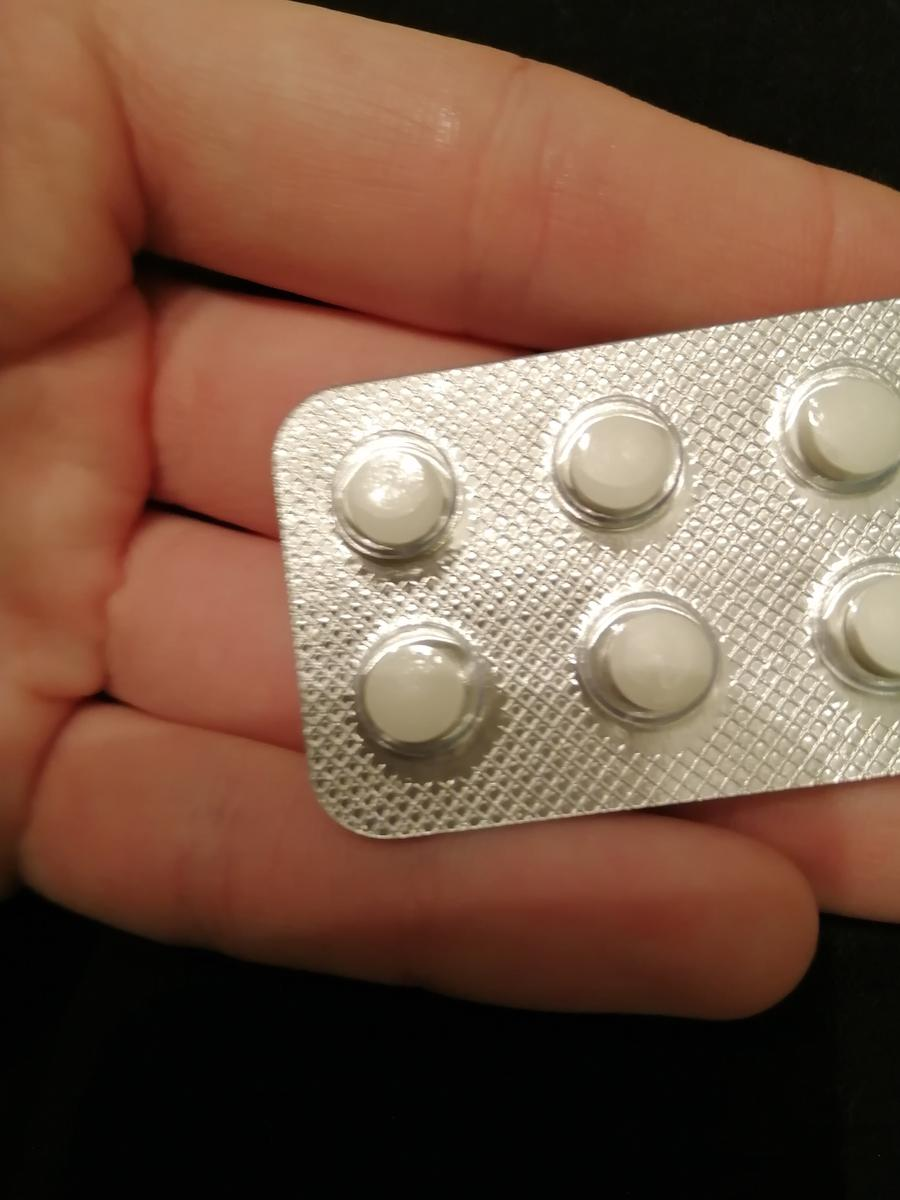tablet: (605, 602, 717, 719), (563, 406, 679, 516), (798, 368, 900, 488), (355, 642, 468, 749), (334, 442, 446, 547), (841, 571, 900, 680)
